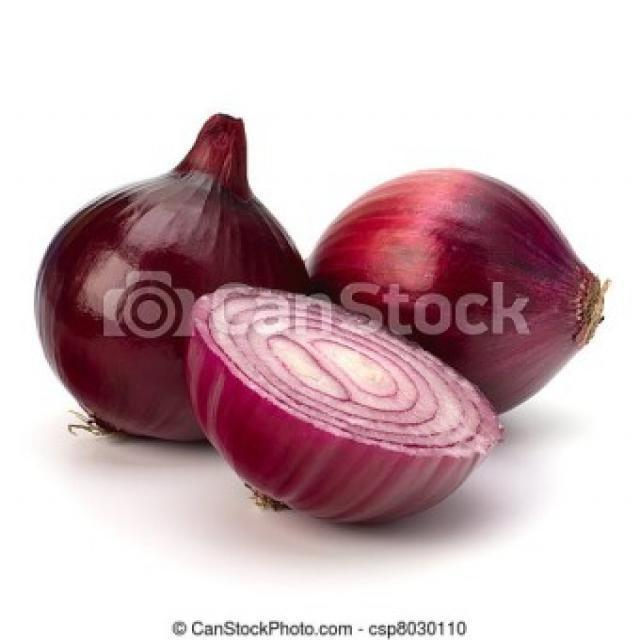onion: (22, 147, 293, 456), (186, 275, 477, 547), (329, 154, 593, 396)
